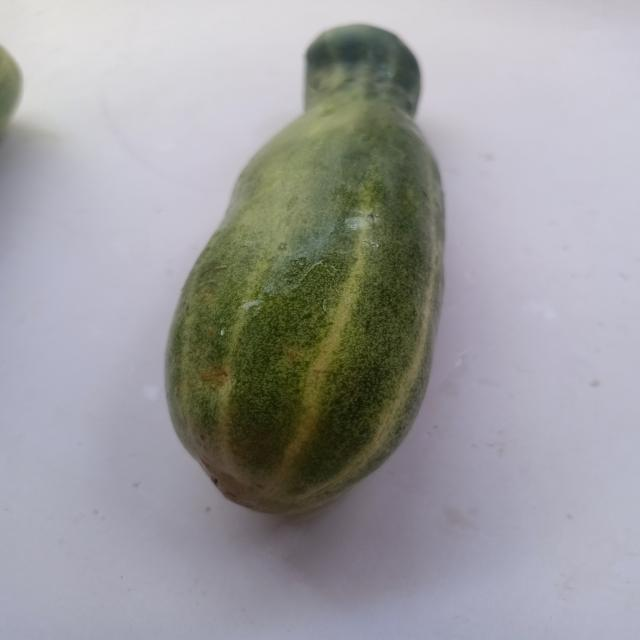Cucumber: (104, 15, 464, 556)
